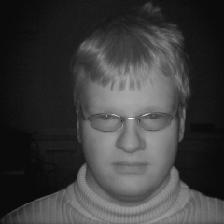normal: (66, 23, 199, 197)
